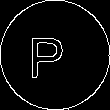P_N: (36, 30, 74, 80)
